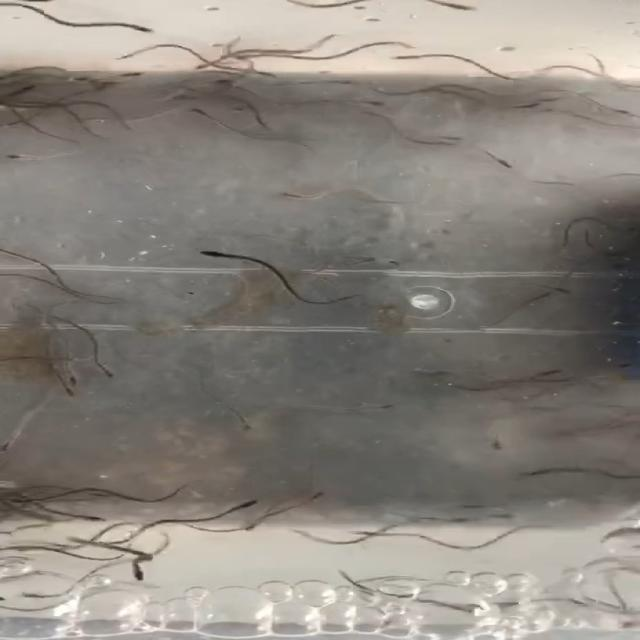active_glass_eel: (420, 129, 471, 152), (216, 416, 262, 438), (39, 376, 88, 396), (424, 0, 478, 17), (396, 203, 441, 222), (379, 48, 421, 68), (175, 97, 222, 114), (278, 180, 314, 202), (0, 482, 31, 507), (0, 75, 52, 89), (329, 526, 378, 540), (478, 154, 514, 173), (119, 566, 157, 584), (8, 86, 53, 101), (267, 45, 305, 62), (198, 247, 244, 261), (506, 465, 551, 479), (448, 59, 491, 73), (247, 80, 290, 94), (509, 98, 546, 114), (95, 358, 117, 383), (362, 96, 390, 115), (81, 511, 116, 526), (211, 34, 241, 51), (128, 19, 158, 36), (524, 280, 562, 293), (450, 372, 476, 390), (596, 106, 632, 119), (174, 56, 206, 70), (538, 364, 572, 377), (107, 48, 136, 63), (232, 525, 268, 537), (0, 436, 23, 454), (230, 499, 261, 512), (0, 150, 32, 162), (120, 70, 147, 84), (370, 402, 401, 414), (300, 492, 330, 501)
